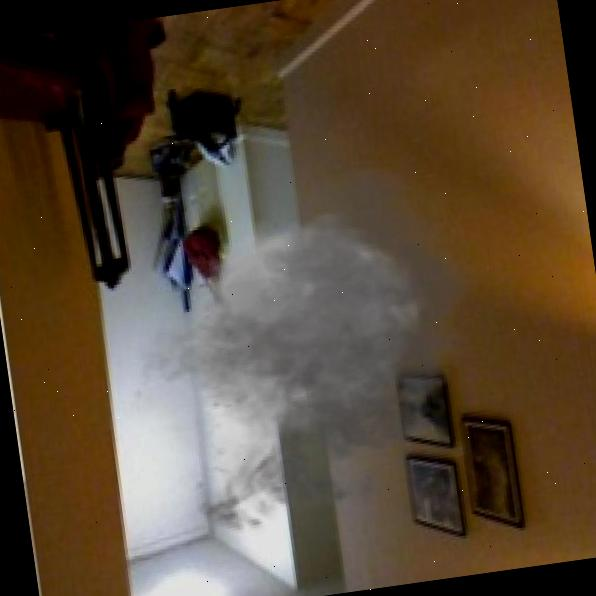smoke: (91, 140, 519, 557)
